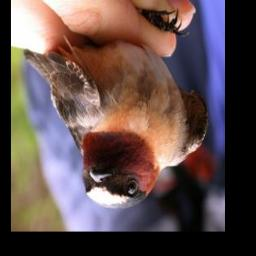Swallow: (23, 8, 207, 210)
